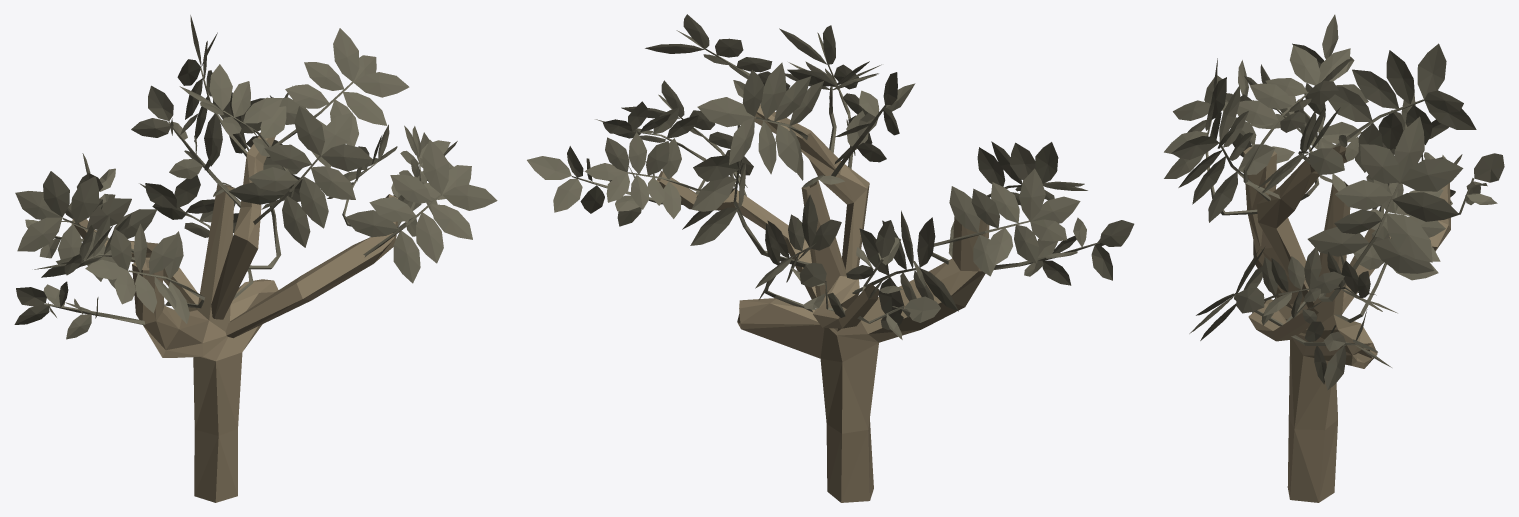
The model's file is Apple_6_2.fbx.
3 renders of one model, left to right at view 1: azimuth 30°, elevation 25°; view 2: azimuth 150°, elevation 25°; view 3: azimuth 270°, elevation 25°, orthographic. The views are drawn at different scales.
Visible parts, largest first — view 1: Apple_6_2; view 2: Apple_6_2; view 3: Apple_6_2.
Part boxes in pixels (bbox=[...]): Apple_6_2: bbox=[14, 15, 497, 502]; Apple_6_2: bbox=[527, 14, 1134, 502]; Apple_6_2: bbox=[1164, 14, 1504, 502].
Bounding box in the file's own units: 479 × 390 × 257.
